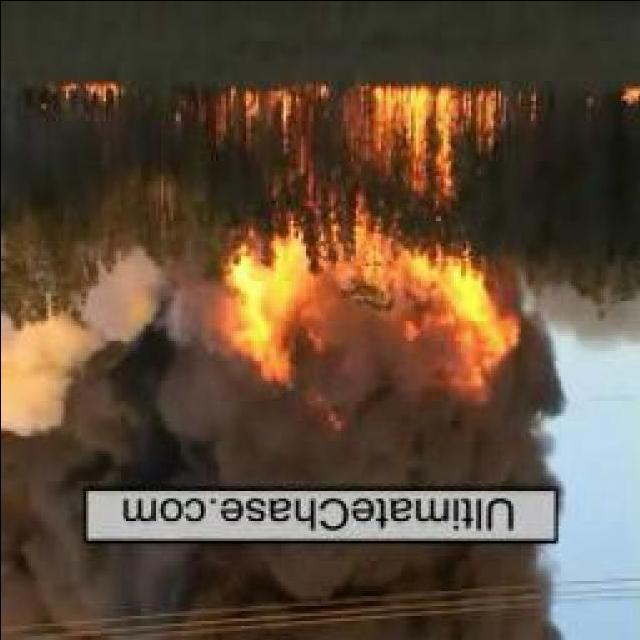Fire: (223, 84, 502, 391), (52, 84, 125, 107), (621, 85, 637, 107)
